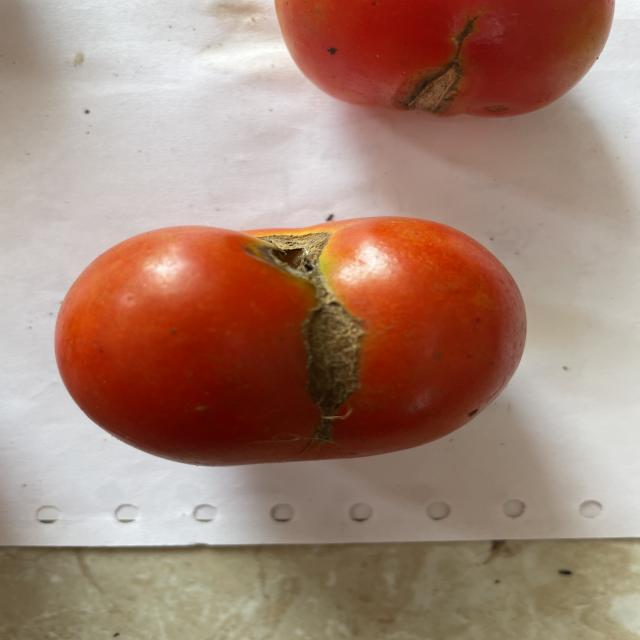tomato_cracking: (250, 222, 370, 441)
